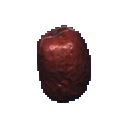gd: (29, 16, 109, 112)
